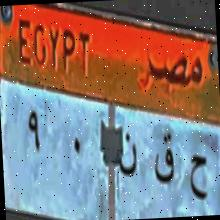0: (70, 130, 84, 162)
7aa: (187, 147, 210, 208)
9: (26, 106, 43, 156)
noon: (116, 129, 140, 181)
qaaf: (149, 130, 177, 192)
